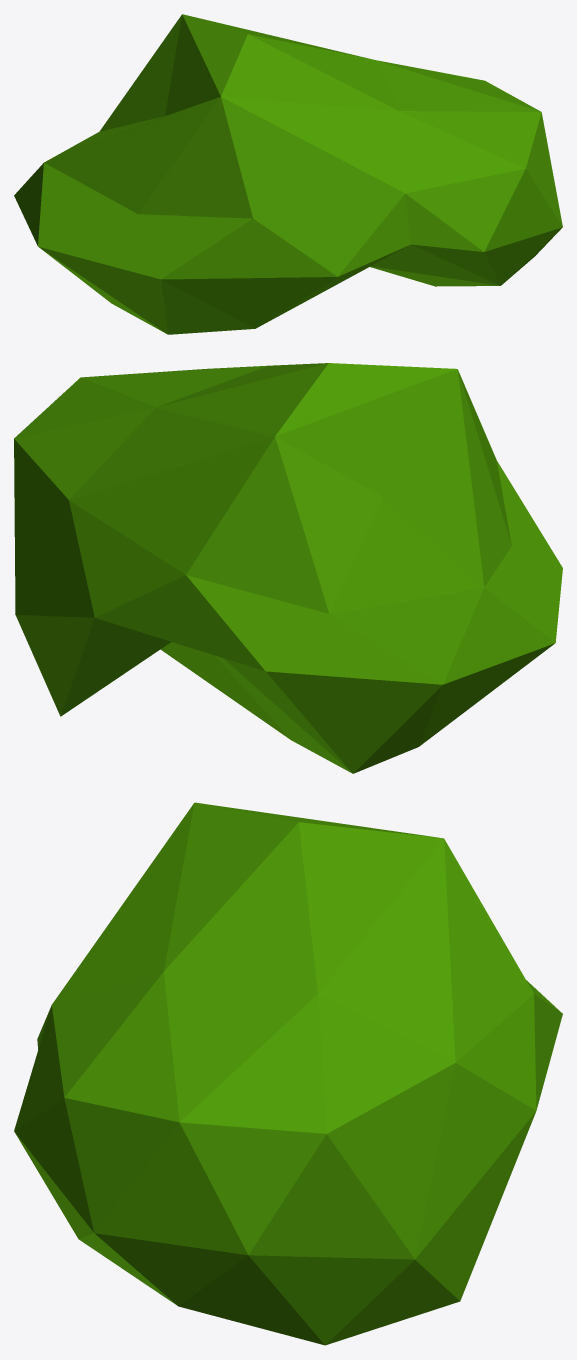
File: Vegetation_Modular_New_Tree_Leaf_Bunch_03.FBX
3 views of the same model, one above another, from view 1: azimuth 30°, elevation 25°; view 2: azimuth 150°, elevation 25°; view 3: azimuth 270°, elevation 25° (orthographic). The views are drawn at different scales.
Parts seen in each view (by area): view 1: Vegetation_Modular_New_Tree_Leaf_Bunch_03; view 2: Vegetation_Modular_New_Tree_Leaf_Bunch_03; view 3: Vegetation_Modular_New_Tree_Leaf_Bunch_03.
Part boxes in pixels (x1,y1,x2,y2): Vegetation_Modular_New_Tree_Leaf_Bunch_03: (14,14,562,334); Vegetation_Modular_New_Tree_Leaf_Bunch_03: (14,363,562,773); Vegetation_Modular_New_Tree_Leaf_Bunch_03: (14,802,562,1345).
Bounding box in the file's own units: 4458 × 2610 × 3406.
